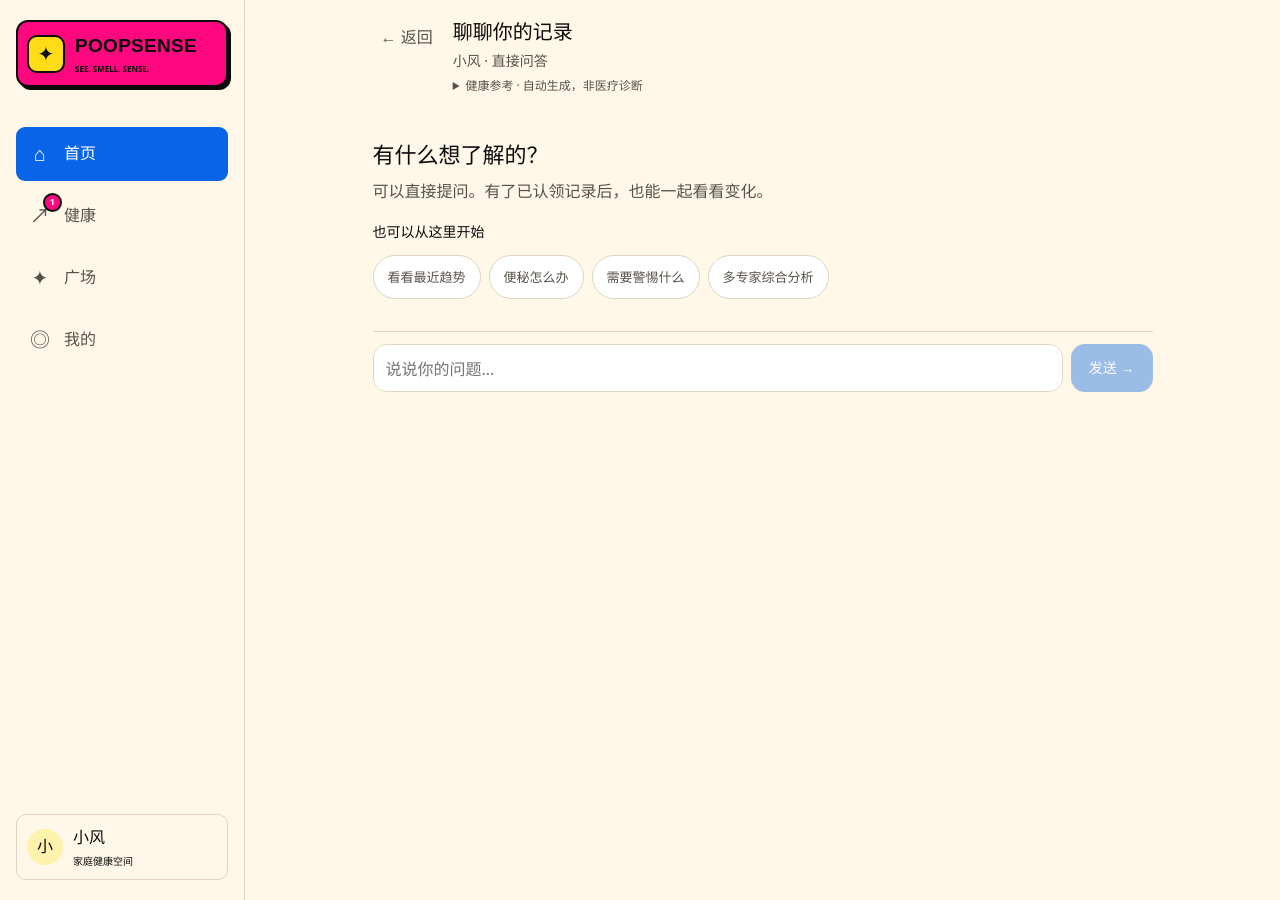
Test: model routing provenance › explains the routing failure MODEL_ROUTING_CONFIG_INVALID and preserves the question for retry
The width and height of the screenshot is (1280, 900).
Step 1. Type "颜色通常表示什么" into the text box named "描述你的情况" → (718, 368), box 372,344 -> 1063,392
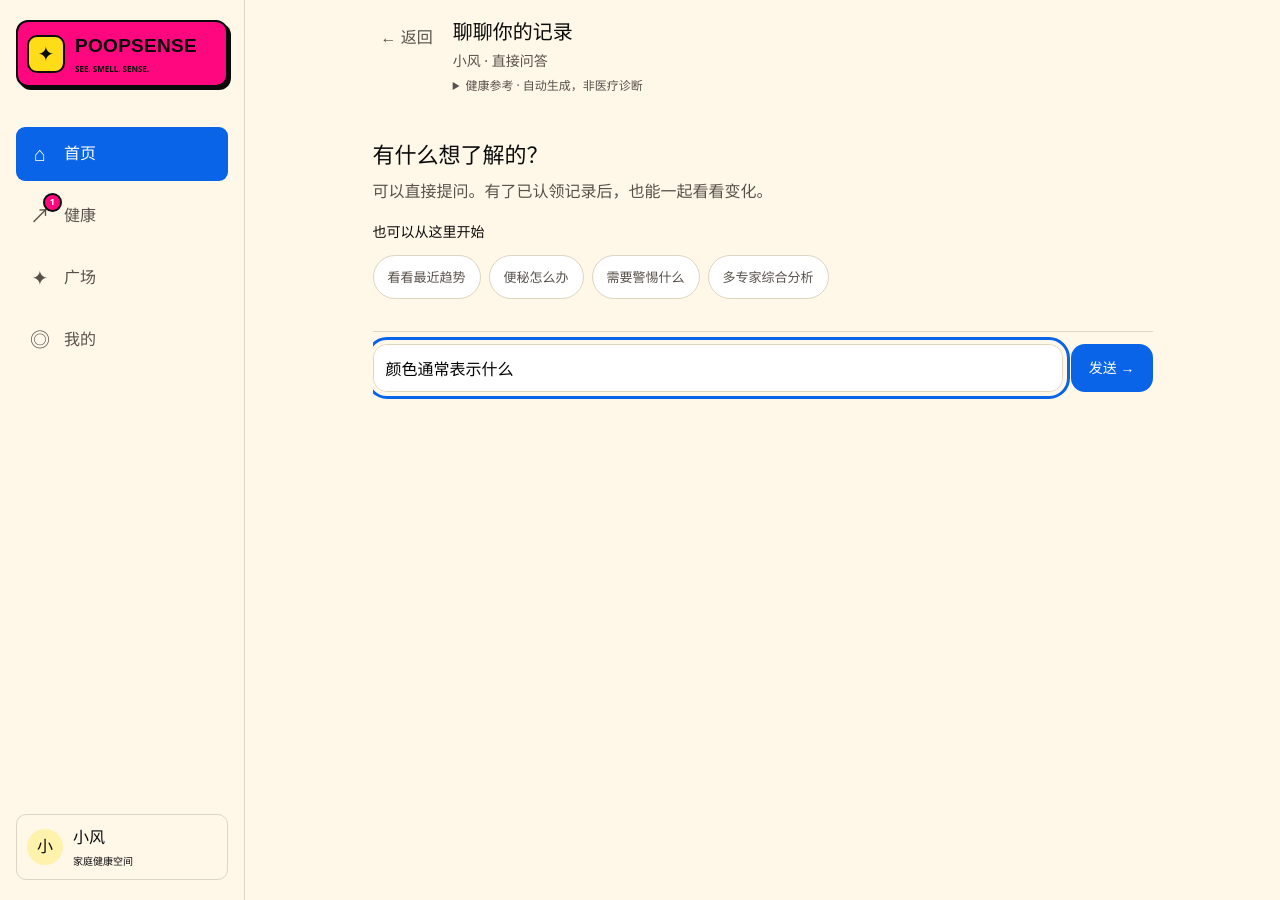
Step 2. Click the button "发送 →" → (1112, 368), box 1071,344 -> 1152,392
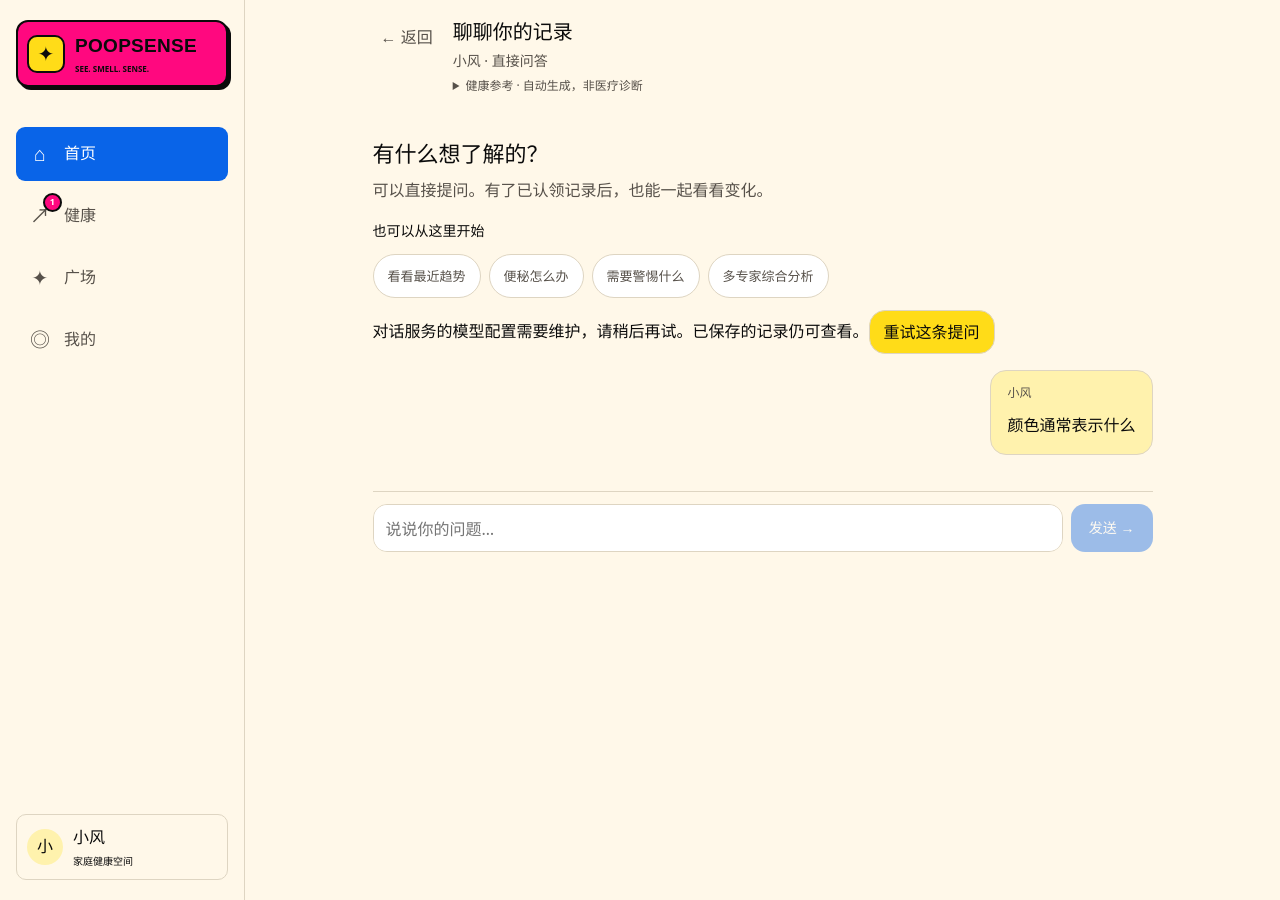
Expected: the text "对话服务的模型配置需要维护，请稍后再试。已保存的记录仍可查看。" is shown, 372,321 -> 868,343
Expected: the text "颜色通常表示什么" is shown, 1008,413 -> 1136,437
Expected: the button "重试这条提问" is enabled, 868,310 -> 994,354
